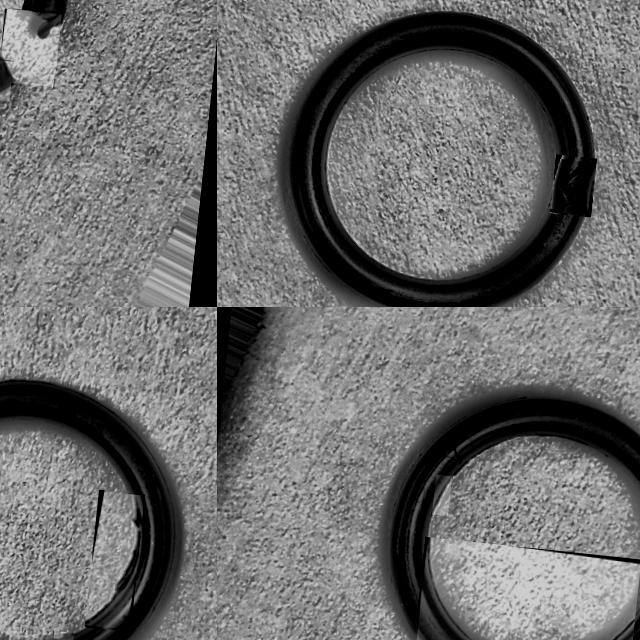切割缺陷: (554, 163, 595, 215), (437, 441, 466, 464)
挤压缺陷: (0, 12, 60, 83)
裂纹: (84, 495, 140, 625), (427, 537, 473, 640), (452, 443, 498, 475), (432, 477, 451, 514), (537, 434, 588, 445), (610, 618, 635, 640), (52, 633, 73, 640), (525, 435, 537, 436)
